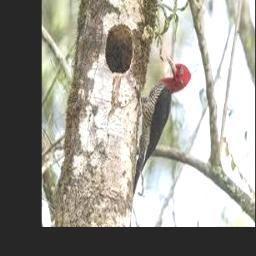Woodpecker: (133, 52, 191, 196)
